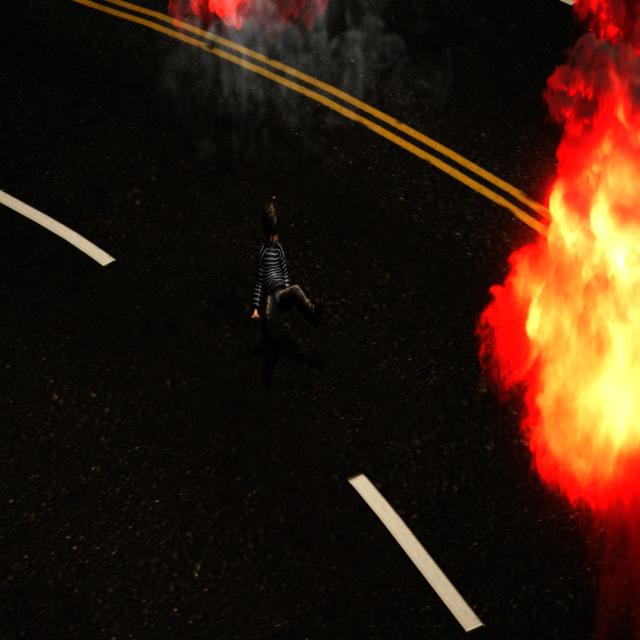Human: (245, 198, 325, 354)
